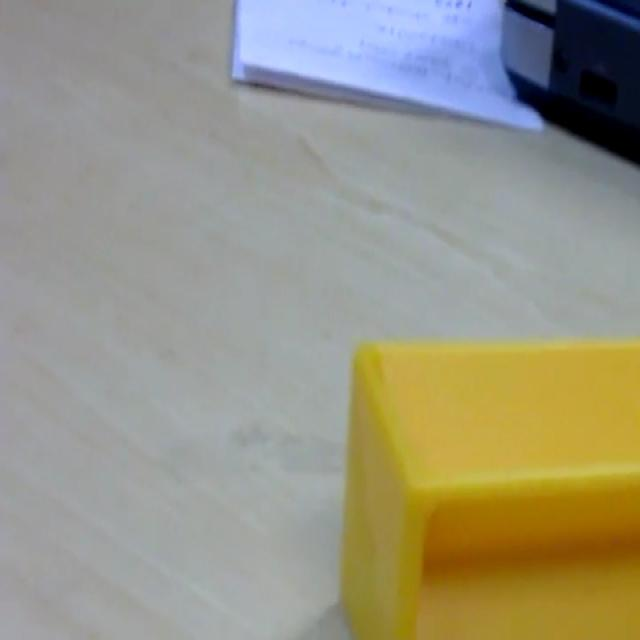yellow_block: (338, 335, 638, 636)
